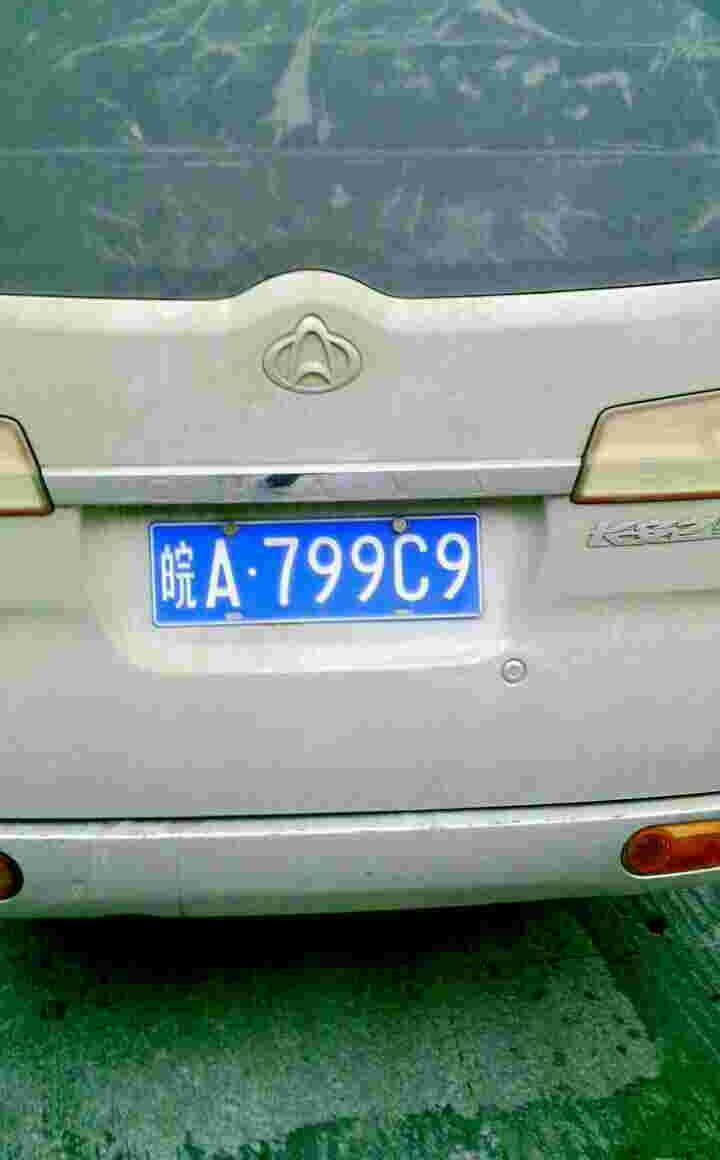license_plate: (151, 510, 491, 627)
